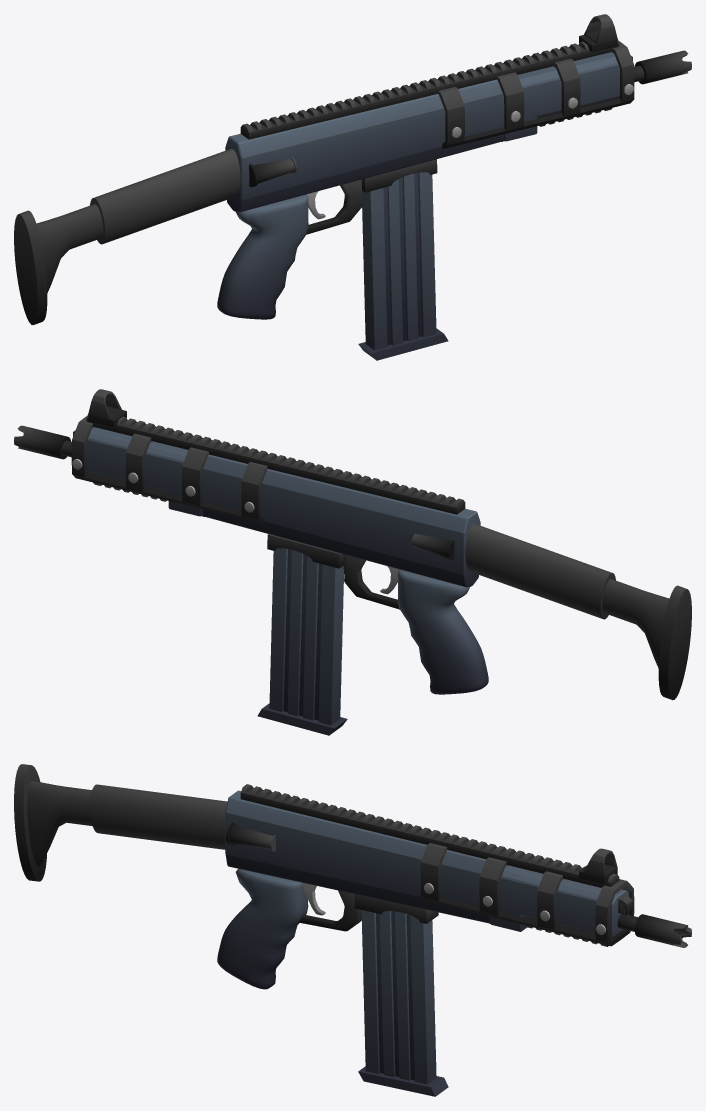
The model's file is weapon_rifle.glb.
3 views of the same model, one above another, from view 1: azimuth 30°, elevation 25°; view 2: azimuth 150°, elevation 25°; view 3: azimuth 330°, elevation 25° (orthographic).
Parts seen in each view (by area): view 1: body.001, Cube.003, stock.001, handle.002, tac_rail_top.001, Plane.001, Cylinder.004, finger_guard.002, sight.001, Mag_holder.001, Cylinder.003; view 2: body.001, stock.001, Cube.003, handle.002, tac_rail_top.001, Plane.001, Cylinder.004, finger_guard.002, Mag_holder.001, sight.001, Cylinder.003; view 3: body.001, Cube.003, stock.001, handle.002, tac_rail_top.001, Plane.001, Cylinder.004, Mag_holder.001, finger_guard.002, sight.001, Cylinder.003.
Part boxes in pixels (x1,y1,x2,y2): body.001: [225, 52, 619, 212]; Cube.003: [358, 172, 448, 360]; stock.001: [14, 148, 240, 325]; handle.002: [217, 194, 308, 319]; tac_rail_top.001: [240, 39, 619, 139]; Plane.001: [438, 41, 634, 148]; Cylinder.004: [635, 50, 691, 84]; finger_guard.002: [306, 179, 362, 234]; sight.001: [579, 14, 617, 52]; Mag_holder.001: [361, 159, 437, 192]; Cylinder.003: [249, 156, 297, 187]; body.001: [86, 427, 480, 587]; stock.001: [465, 523, 691, 700]; Cube.003: [257, 548, 347, 735]; handle.002: [397, 569, 488, 694]; tac_rail_top.001: [86, 414, 465, 514]; Plane.001: [71, 416, 267, 523]; Cylinder.004: [14, 425, 70, 459]; finger_guard.002: [343, 554, 399, 609]; Mag_holder.001: [267, 534, 344, 568]; sight.001: [88, 389, 126, 427]; Cylinder.003: [411, 533, 454, 559]; body.001: [225, 790, 628, 936]; Cube.003: [358, 910, 448, 1096]; stock.001: [14, 764, 227, 881]; handle.002: [217, 868, 308, 989]; tac_rail_top.001: [240, 784, 619, 887]; Plane.001: [420, 843, 634, 946]; Cylinder.004: [634, 914, 691, 947]; Mag_holder.001: [354, 894, 438, 923]; finger_guard.002: [298, 890, 361, 931]; sight.001: [579, 848, 617, 884]; Cylinder.003: [226, 822, 275, 851].
Bounding box in the file's own units: 0.74 × 0.3004 × 0.0562.
Materials: 1 (1 with a texture image).
